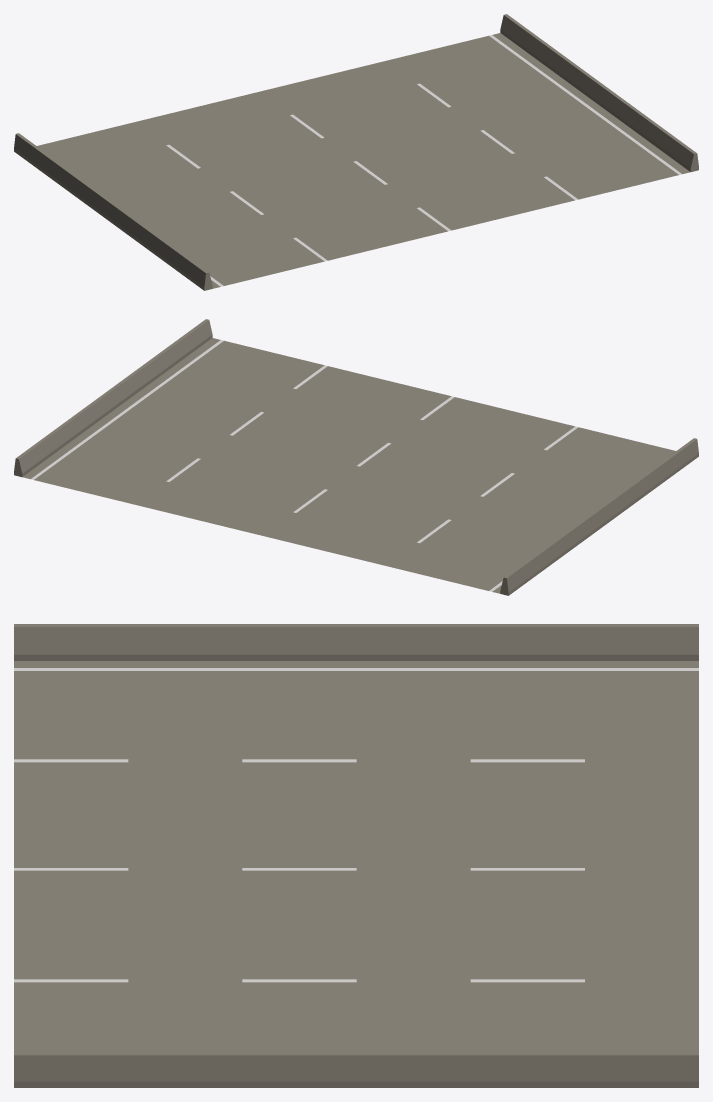
The model's file is highway_Straight_Concrete.fbx.
3 views of the same model, one above another, from view 1: azimuth 30°, elevation 25°; view 2: azimuth 150°, elevation 25°; view 3: azimuth 270°, elevation 25° (orthographic). The views are drawn at different scales.
Visible parts, largest first — view 1: Highway.002; view 2: Highway.002; view 3: Highway.002.
Part boxes in pixels (x1,y1,x2,y2): Highway.002: [14, 14, 698, 290]; Highway.002: [14, 319, 698, 595]; Highway.002: [14, 624, 698, 1087].
Bounding box in the file's own units: 30 × 1 × 20.
